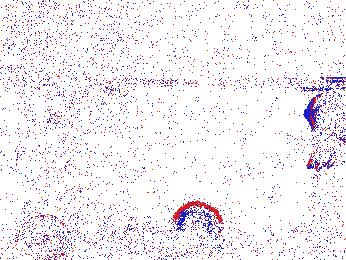flame jellyfish: (304, 85, 346, 173), (15, 213, 70, 260), (175, 203, 227, 246)
